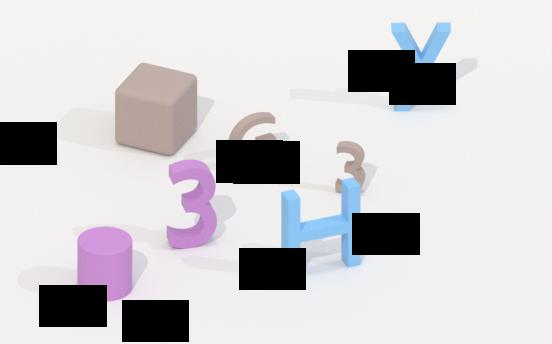3: (163, 160, 219, 254), (335, 139, 365, 198)
G-hoa: (228, 108, 278, 171)
H-hoa: (278, 177, 365, 284)
Y: (387, 18, 454, 114)
hop: (112, 60, 201, 158)
tru: (73, 222, 137, 304)
